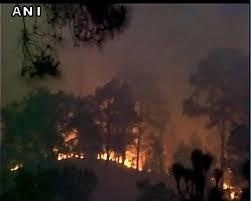fire: (96, 131, 148, 170), (52, 110, 83, 159)
